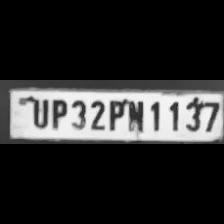1: (146, 99, 164, 133), (164, 99, 182, 133)
2: (87, 97, 105, 131)
3: (182, 97, 202, 132), (68, 96, 86, 130)
7: (200, 99, 220, 133)
N: (124, 96, 146, 134)
P: (105, 96, 124, 132), (47, 96, 67, 130)
U: (28, 96, 48, 128)
